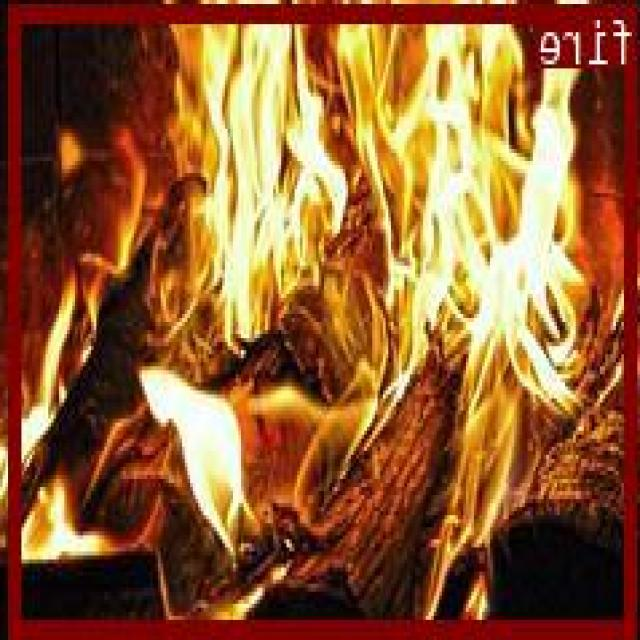fire: (13, 1, 640, 632)
